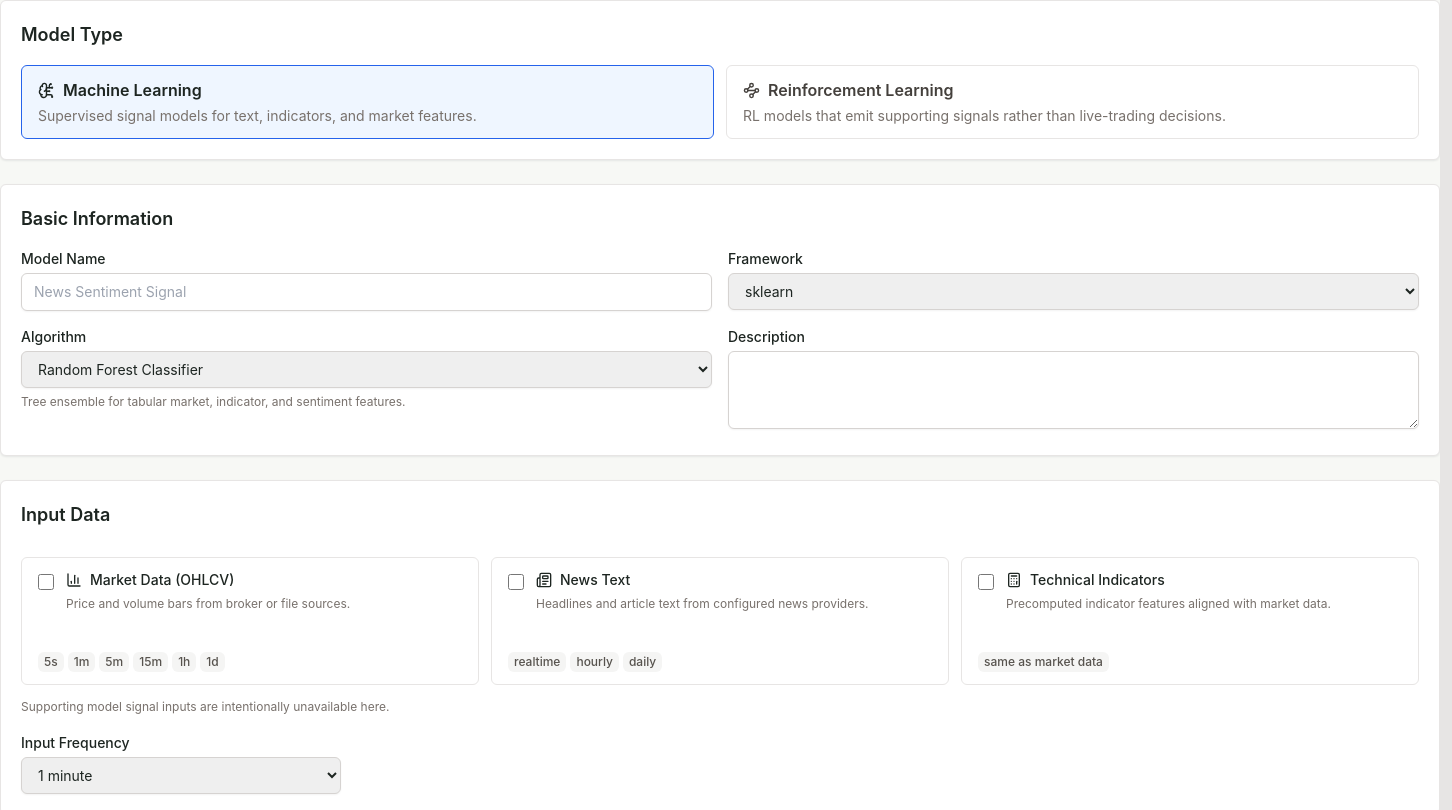
SupportingModelForm › switches model category and resets framework, algorithm, and hyperparameters
Expected: the dropdown labelled "Framework" shows "sklearn", [728,273,1419,310]
Expected: the dropdown labelled "Algorithm" shows "Random Forest Classifier", [21,351,712,388]
Click the button "Reinforcement Learning" at {"x": 861, "y": 90}, box [726,65,1419,139]
(page scrolled)
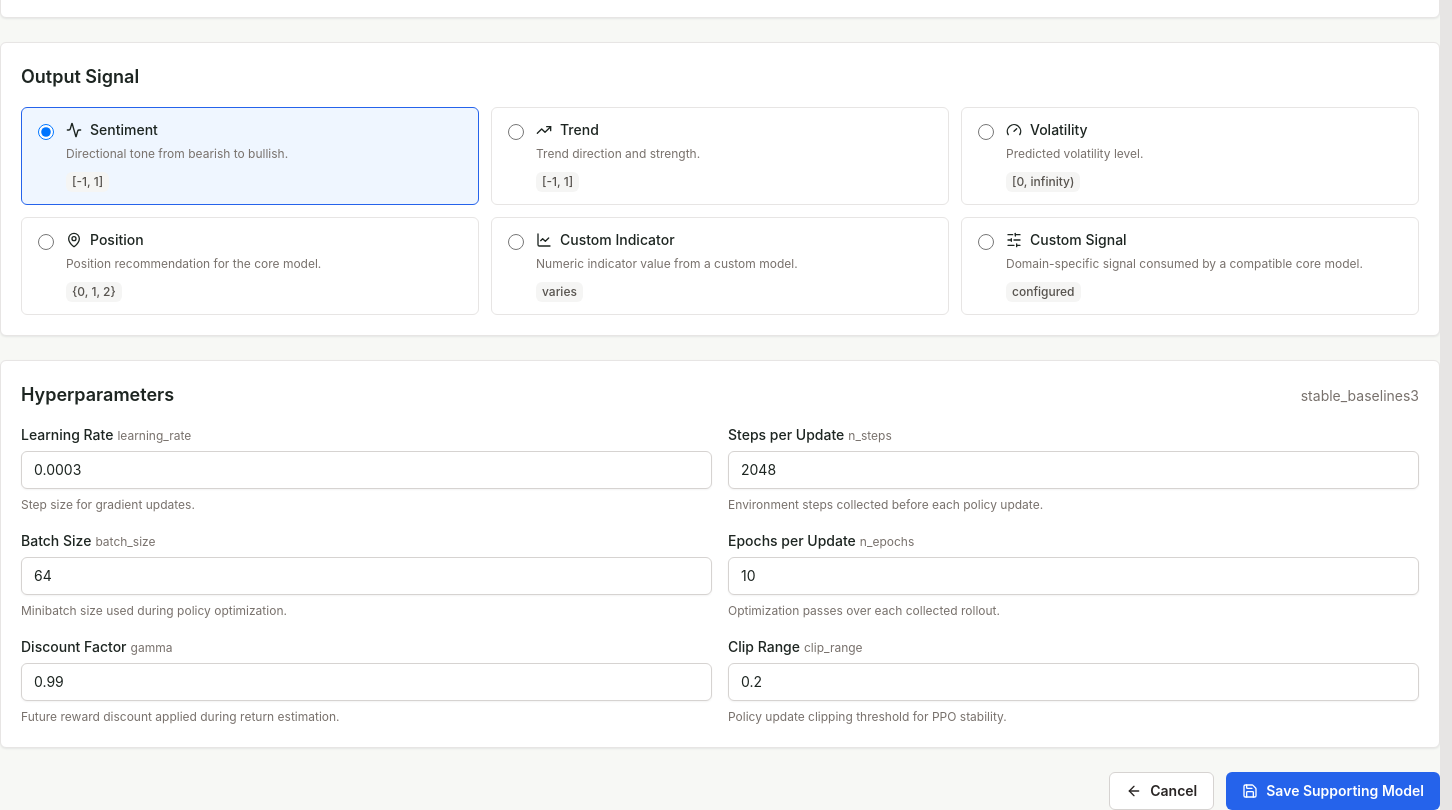
Expected: the number field labelled "Steps per Update" is shown, [728,451,1419,489]
